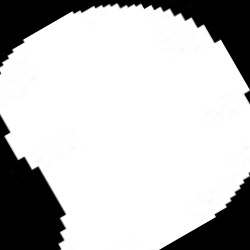spot: (4, 4, 247, 245)
